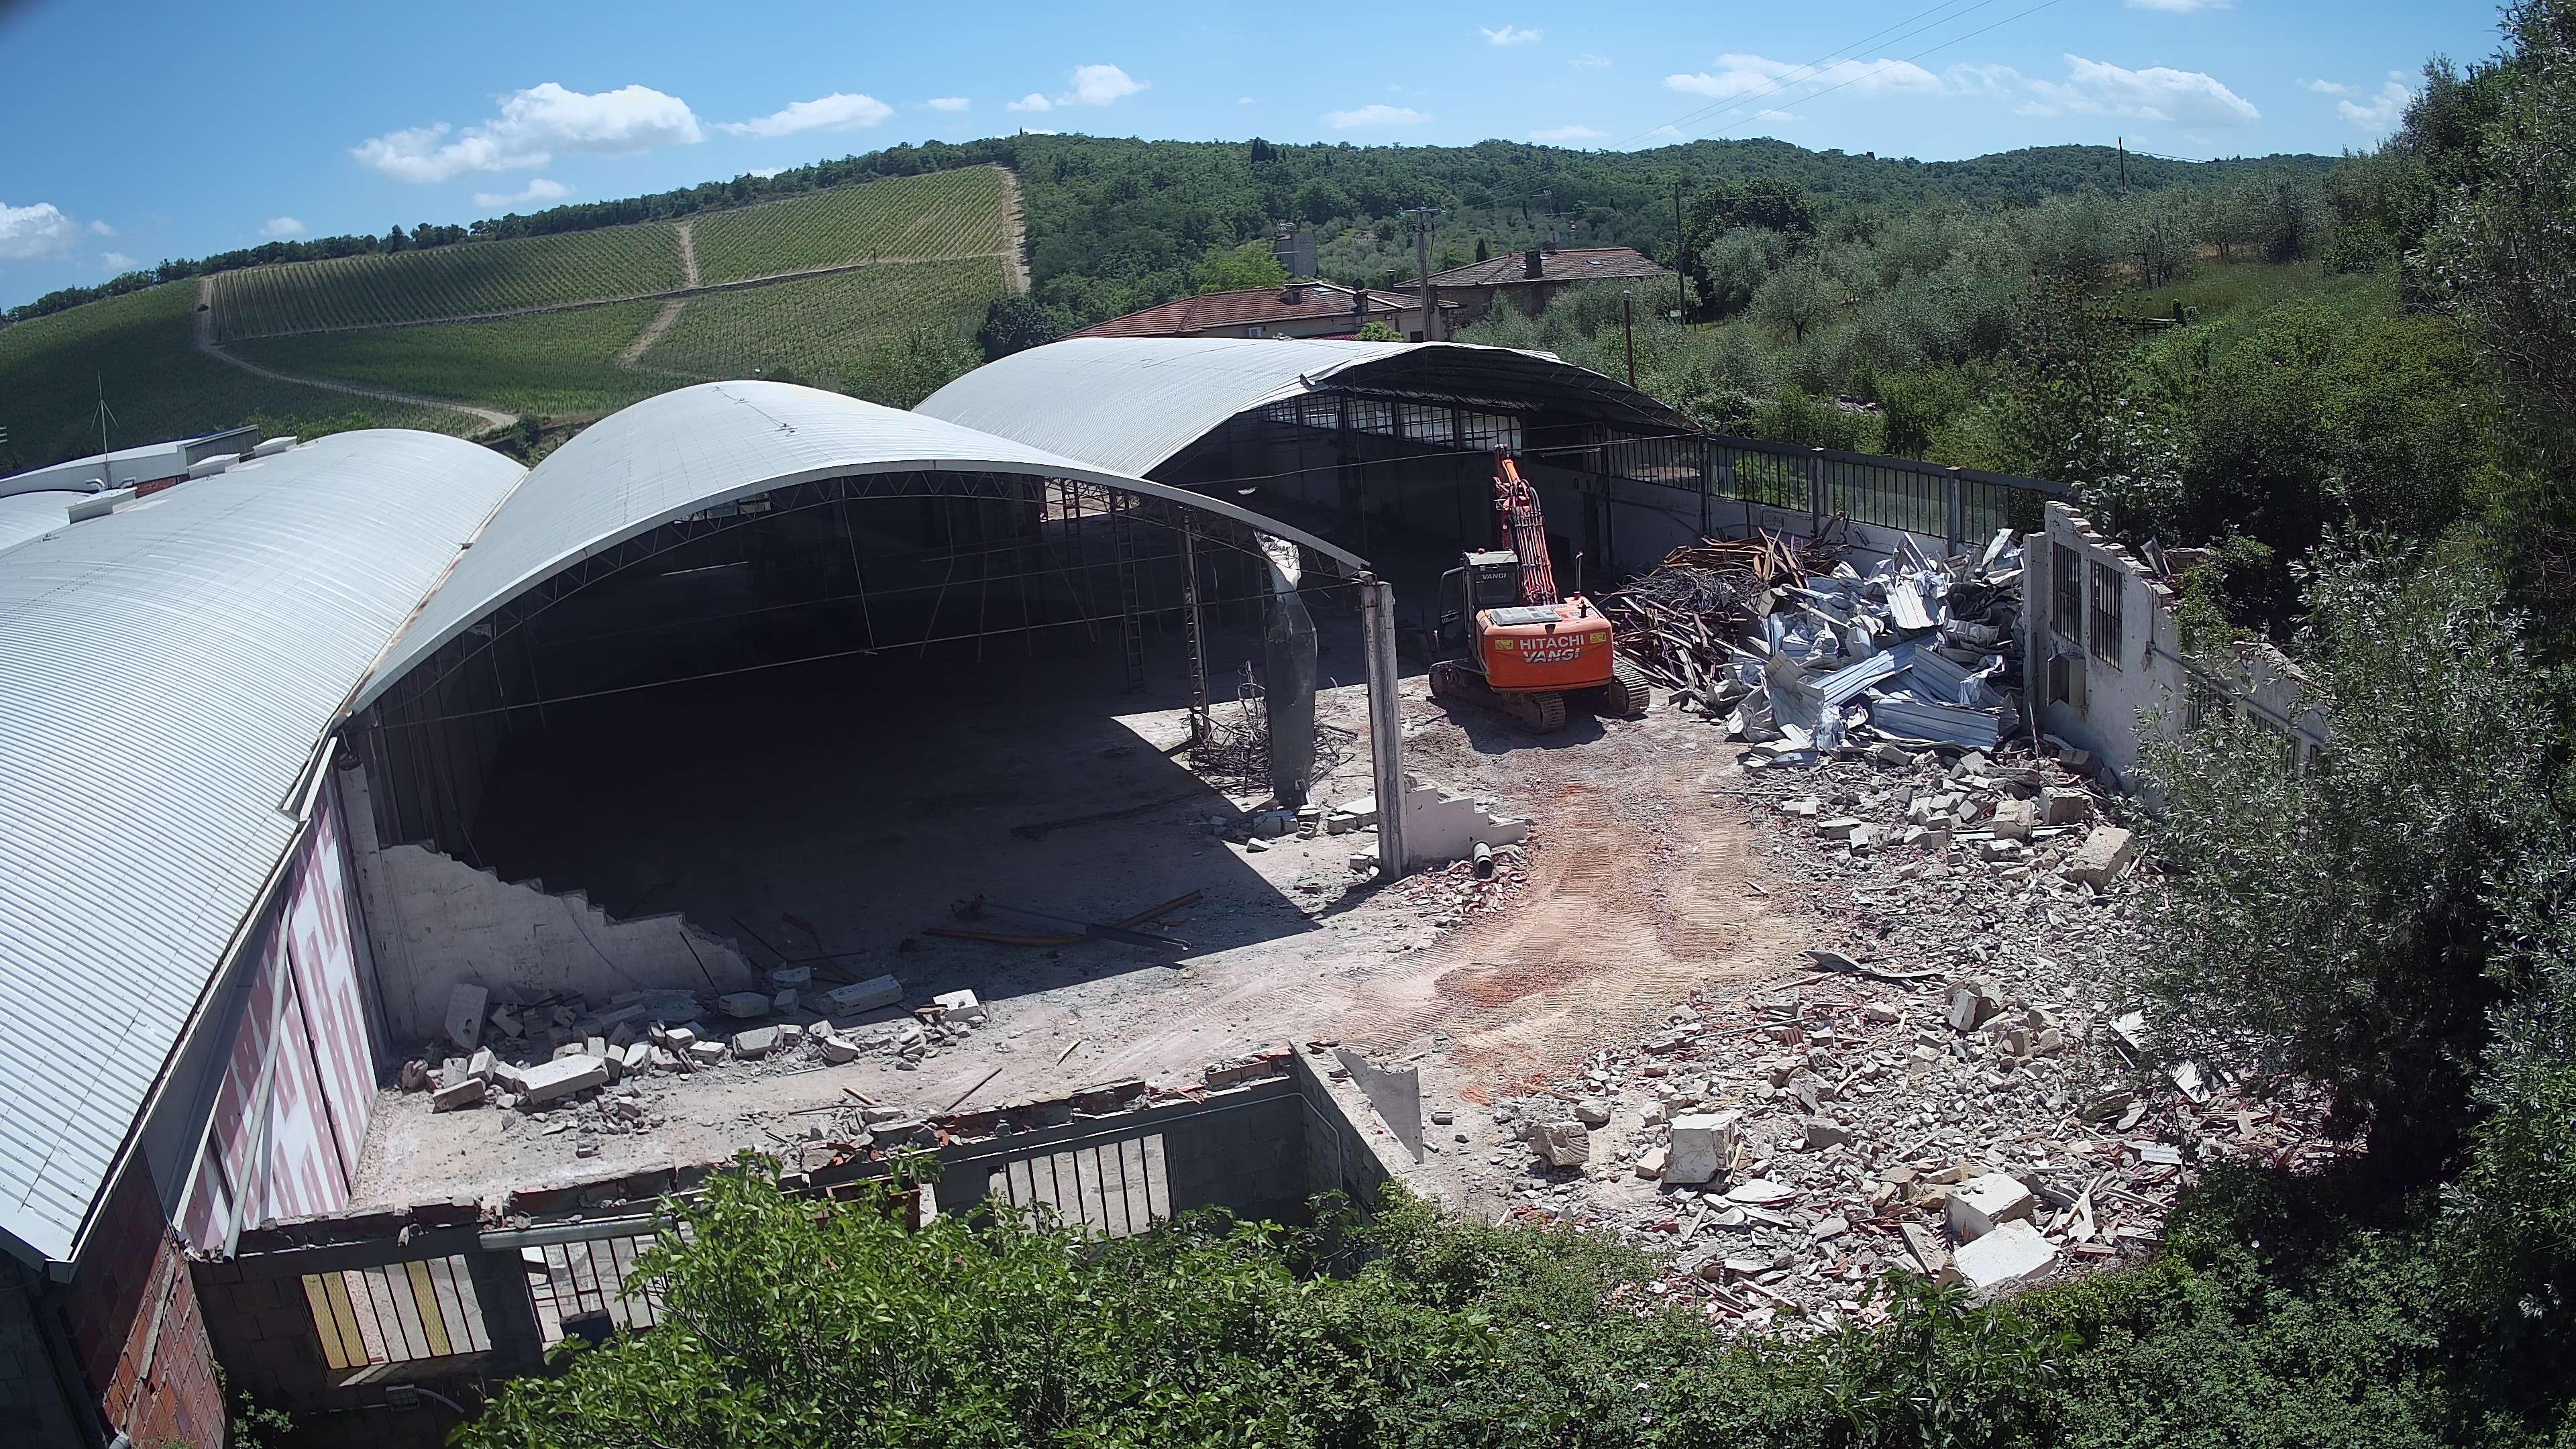excavator: (1430, 444, 1649, 732)
